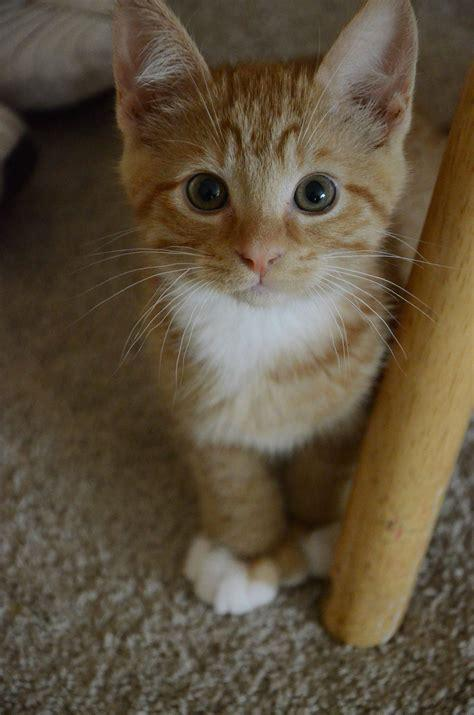cat: (112, 1, 416, 614)
